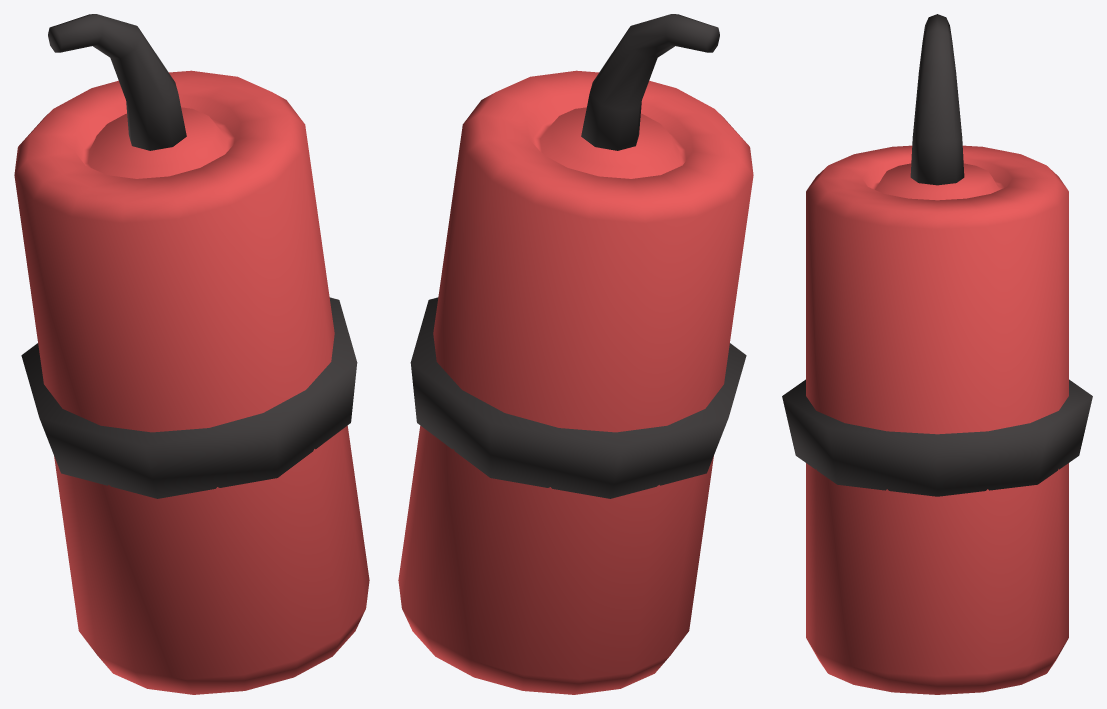
Rendered from Bomb.fbx.
The picture shows the model from 3 angles, left to right: view 1: azimuth 30°, elevation 25°; view 2: azimuth 150°, elevation 25°; view 3: azimuth 270°, elevation 25°; orthographic projection. The views are drawn at different scales.
Visible parts, largest first — view 1: Cylinder.001; view 2: Cylinder.001; view 3: Cylinder.001.
Part boxes in pixels (box(x1,y1,x2,y2)): Cylinder.001: box(14, 14, 369, 694); Cylinder.001: box(398, 14, 753, 694); Cylinder.001: box(782, 14, 1092, 694).
Size of the model in its own units: 202 by 402 by 192.
